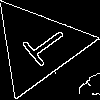T: (13, 21, 72, 74)
